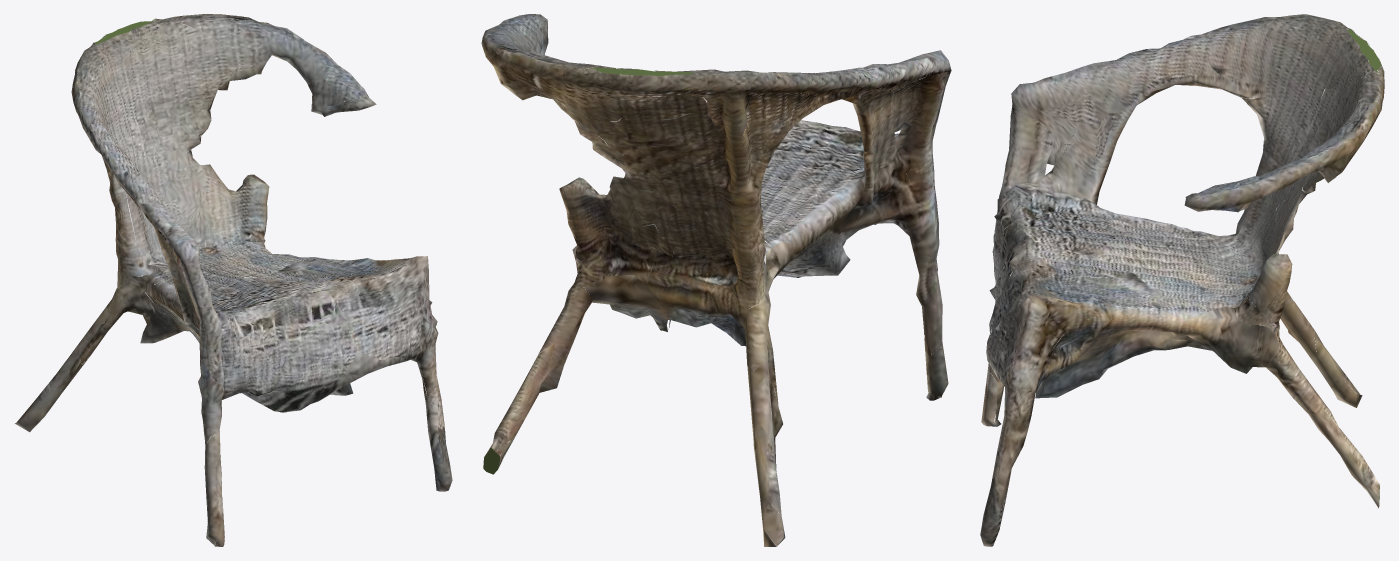
The model's file is chair_broken.glb.
3 renders of one model, left to right at view 1: azimuth 30°, elevation 25°; view 2: azimuth 150°, elevation 25°; view 3: azimuth 270°, elevation 25°, orthographic. The views are drawn at different scales.
Visible parts, largest first — view 1: imperfect_chair.001; view 2: imperfect_chair.001; view 3: imperfect_chair.001.
Boxes of the visible parts, bbox=[...] form: imperfect_chair.001: bbox=[15, 14, 452, 546]; imperfect_chair.001: bbox=[481, 14, 951, 546]; imperfect_chair.001: bbox=[980, 14, 1384, 546].
Size of the model in its own units: 0.6036 by 0.7616 by 0.6722.
1 material, 1 textured.
